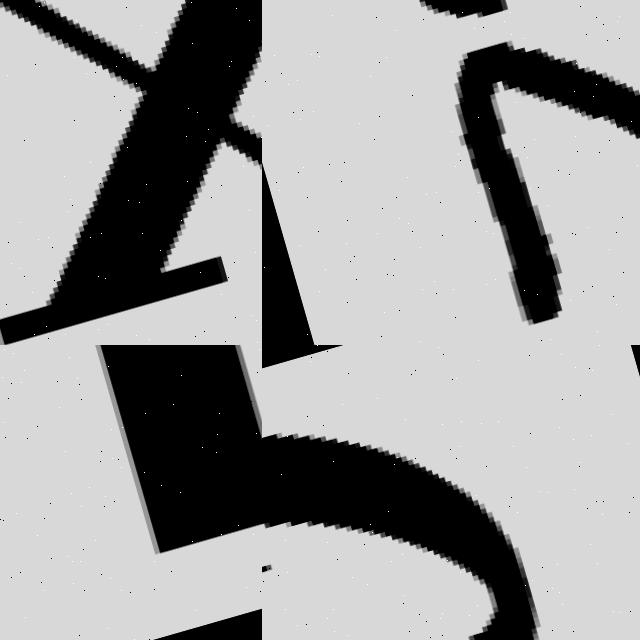5: (262, 345, 640, 640)
U: (0, 345, 262, 640)
X: (0, 0, 262, 345)
Y: (344, 0, 640, 345)
